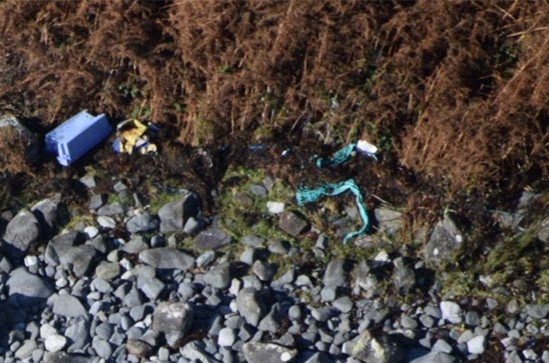cuboid: (37, 104, 115, 169)
net: (293, 178, 372, 247), (316, 141, 358, 170)
together_barrel: (111, 113, 163, 157)
white_in_green: (343, 124, 391, 166)
